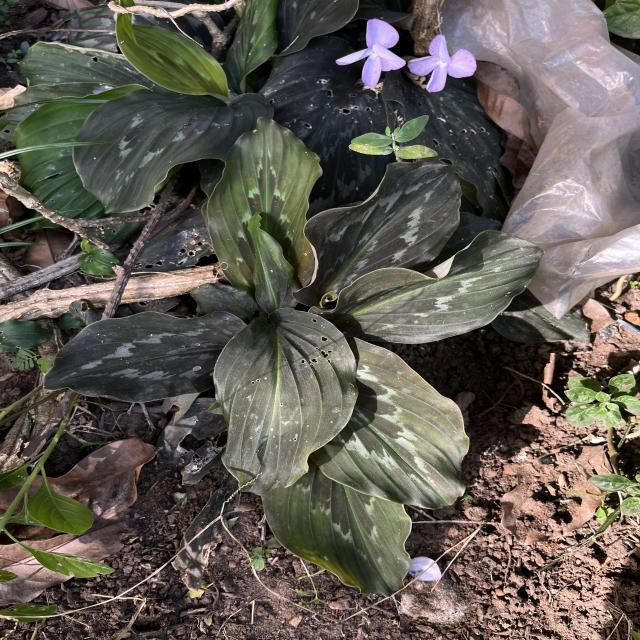Kaempferia galanga linn: (308, 334, 471, 512), (211, 305, 361, 498), (306, 228, 546, 346), (70, 86, 278, 215), (289, 158, 464, 308), (204, 113, 326, 290), (258, 466, 414, 600), (41, 308, 248, 406), (244, 208, 302, 314)
